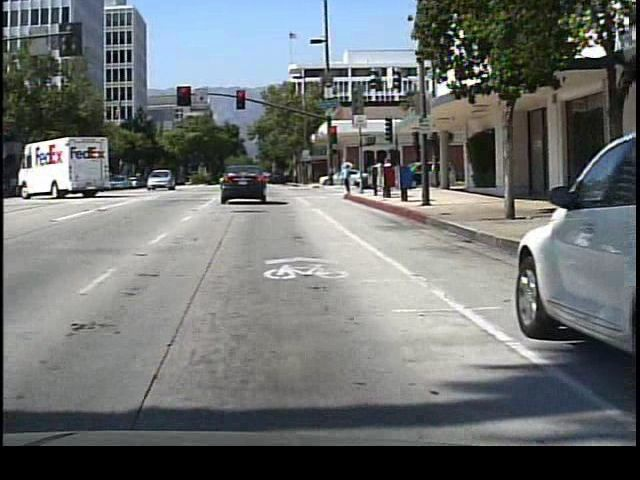person: (339, 151, 360, 199)
